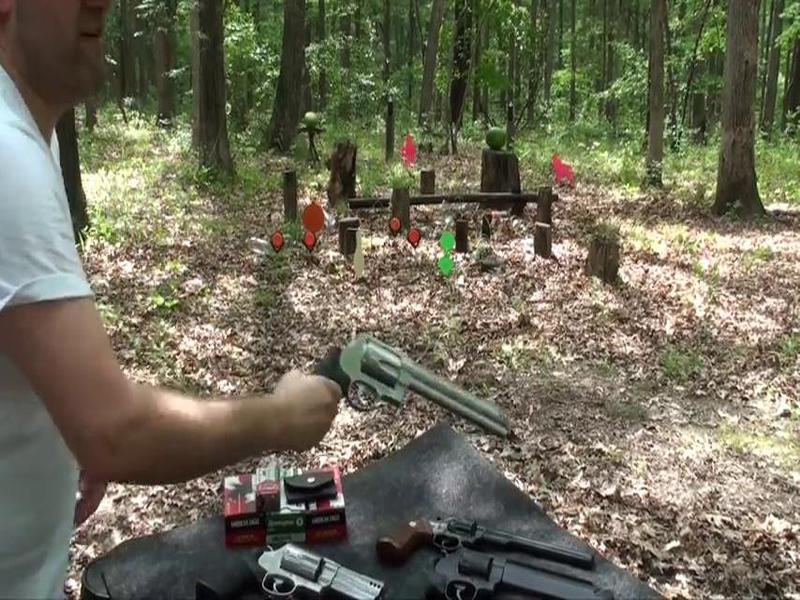Revolver: (252, 314, 556, 477)
